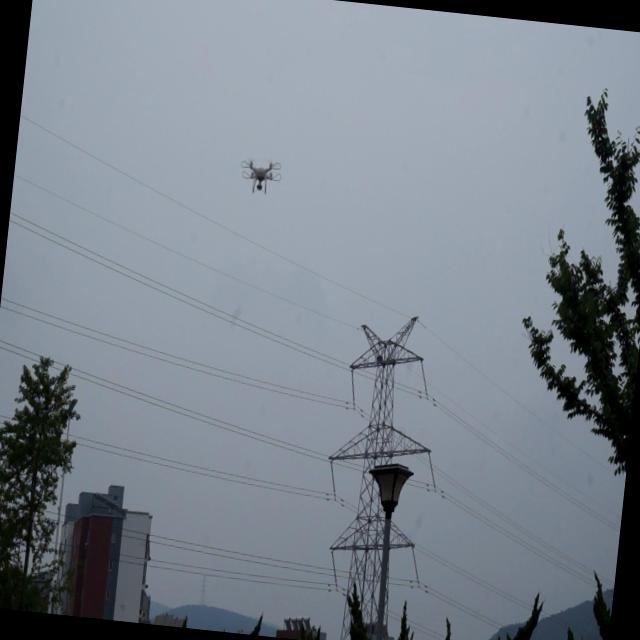drone: (237, 152, 283, 200)
